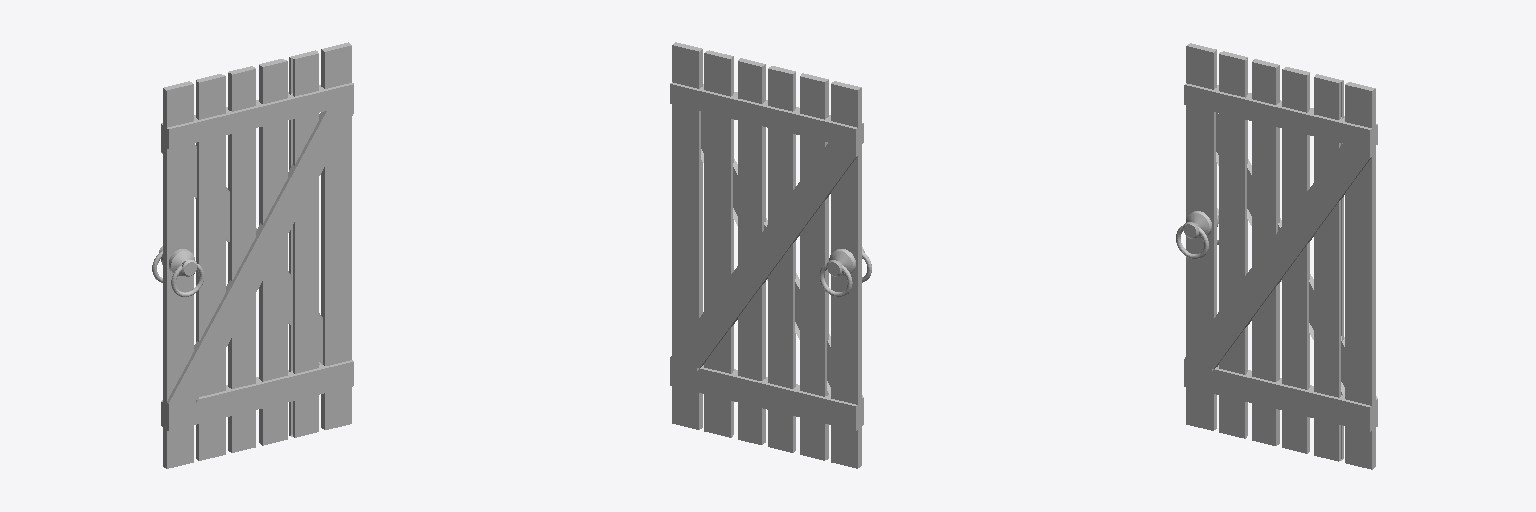
Rendered from wooden_door.obj.
3 views of the same model, side by side, from view 1: azimuth 30°, elevation 25°; view 2: azimuth 150°, elevation 25°; view 3: azimuth 330°, elevation 25° (orthographic).
Bounding box in the file's own units: 4.03 × 7.74 × 0.9066.